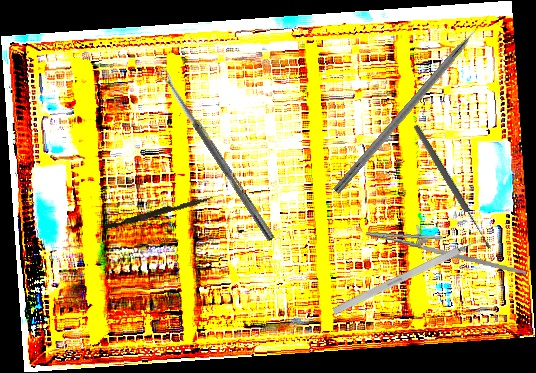Hook Surgical: (332, 12, 495, 197), (331, 232, 490, 316)
Needle Holder: (363, 218, 531, 276)
Pusher: (104, 191, 214, 233)
Surgical Spoon: (158, 67, 276, 242), (411, 122, 494, 252)
